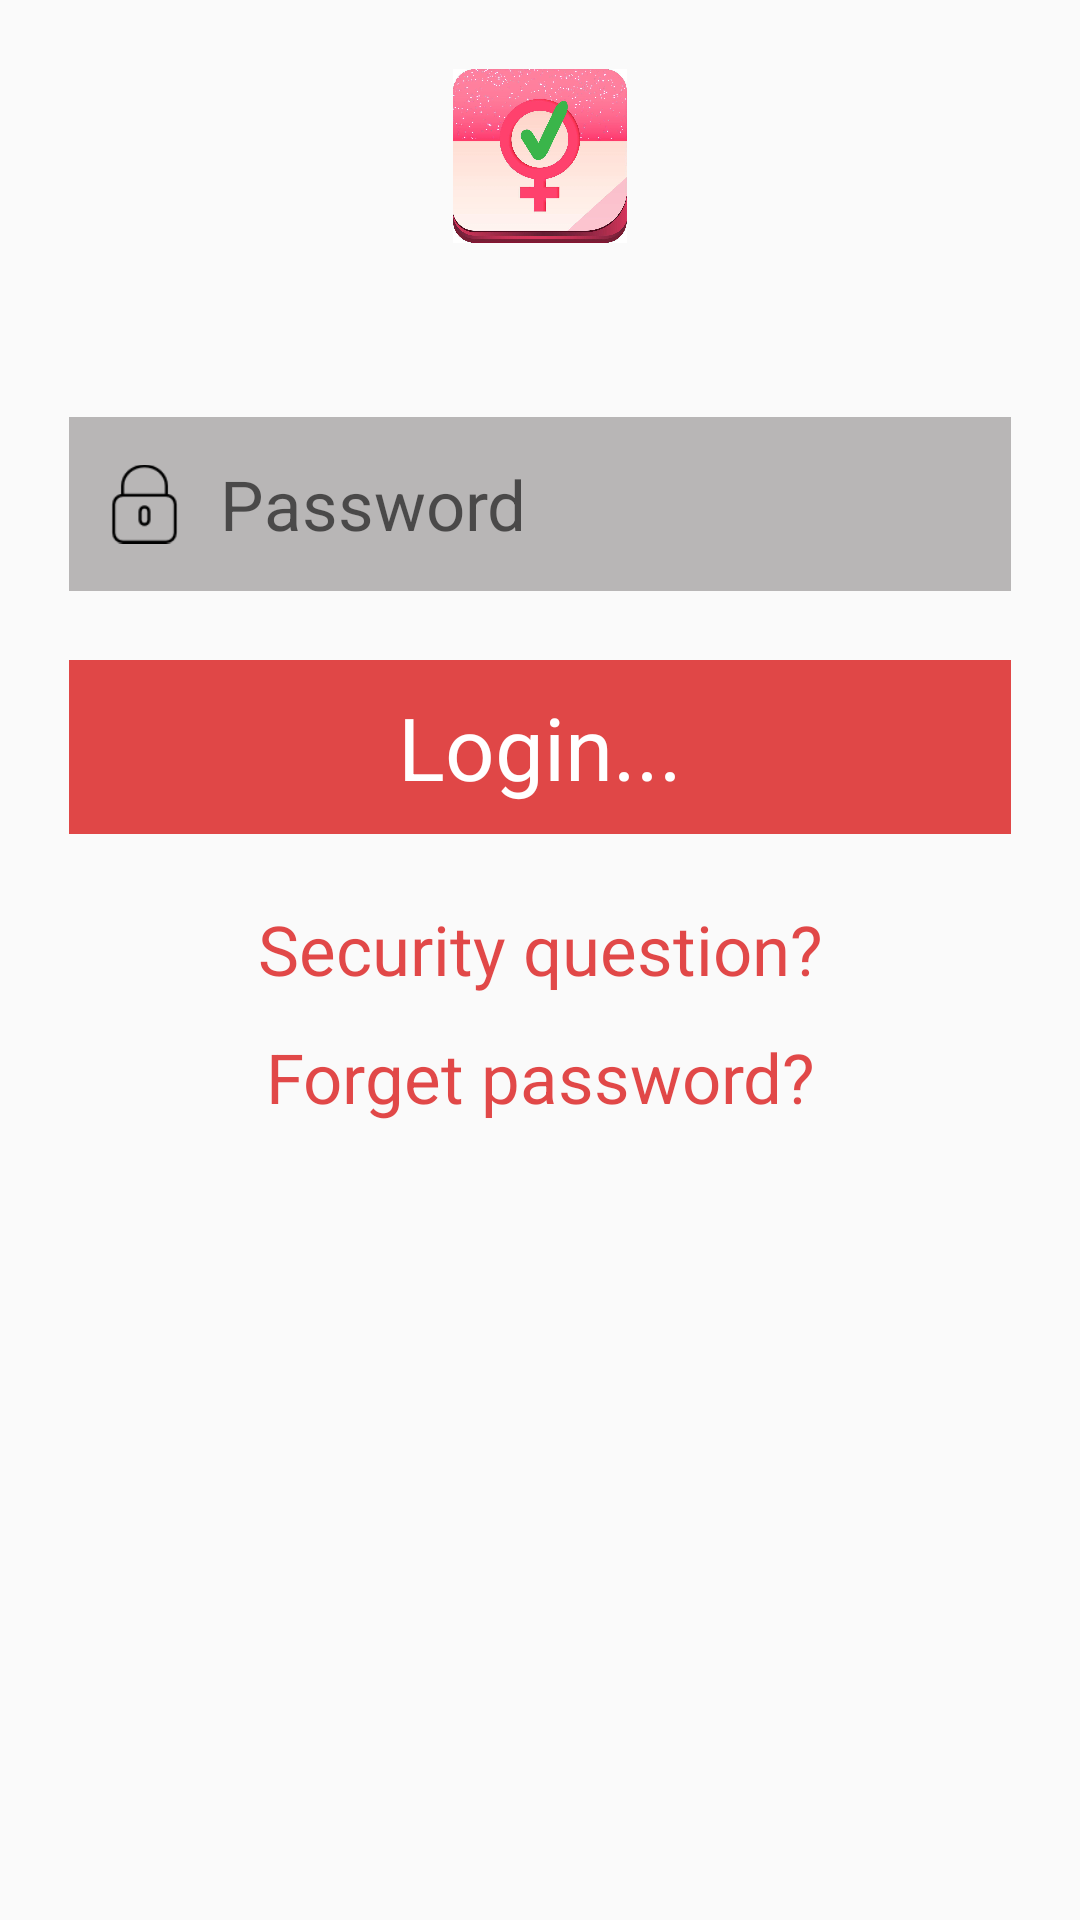

Locate icon controls on the screen. Image size 1080x1920, boxes as (x1, y1, x2, y2).
lock: (112, 465, 177, 544)
